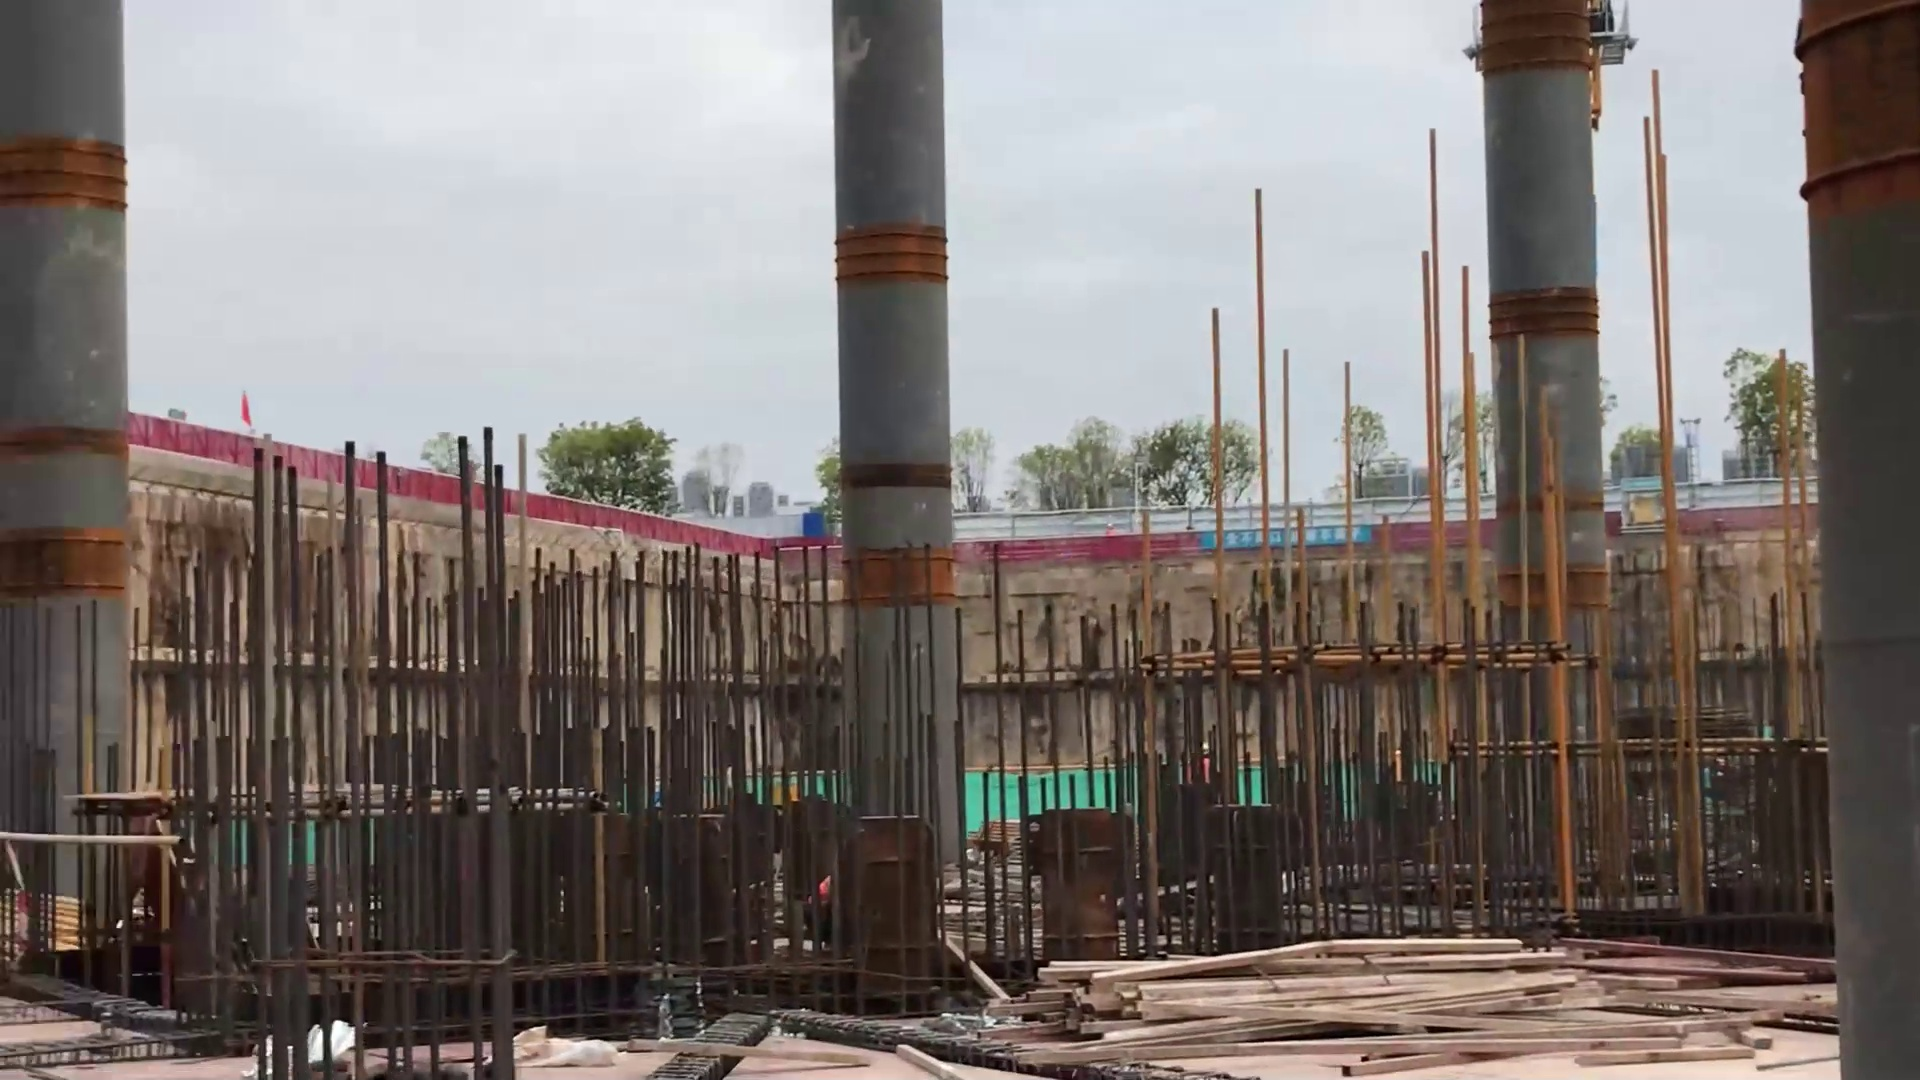fence: (533, 456, 769, 578), (967, 477, 1188, 593)
wood: (953, 910, 1853, 1073)
